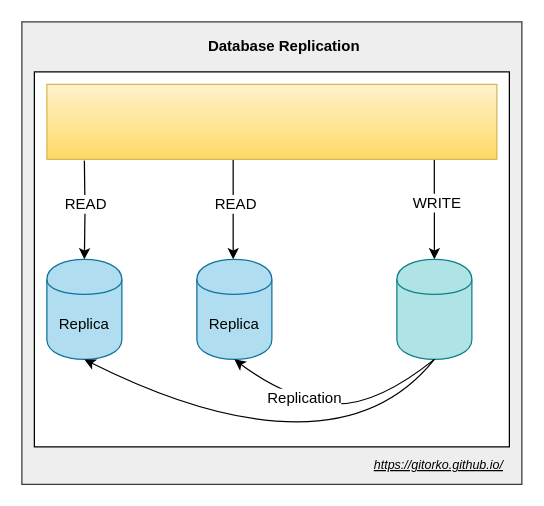
This 544x506 diagram has some shape labels left out. Here are the shapes that lost their labels. From the top down, the centre of each, then its label:
At (x=271, y=121): "Service".
At (x=434, y=308): "Primary".
